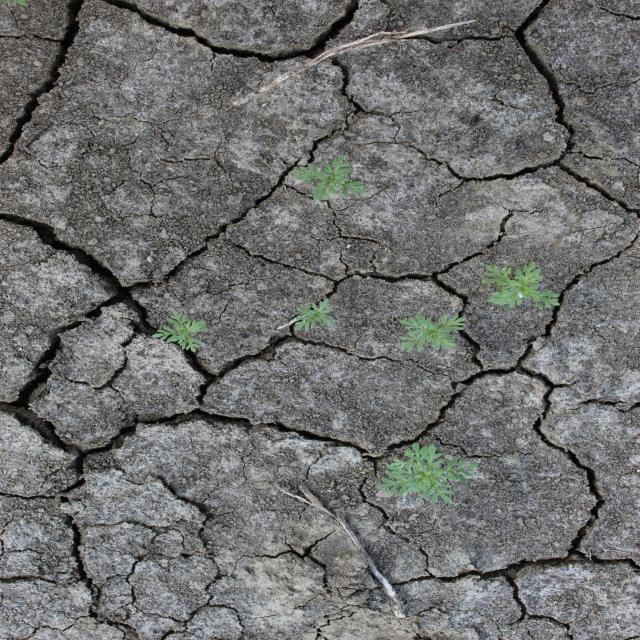Ragweed: (374, 441, 480, 505), (290, 152, 369, 204), (482, 260, 562, 310), (395, 311, 467, 354), (150, 309, 210, 353), (293, 297, 336, 332)
